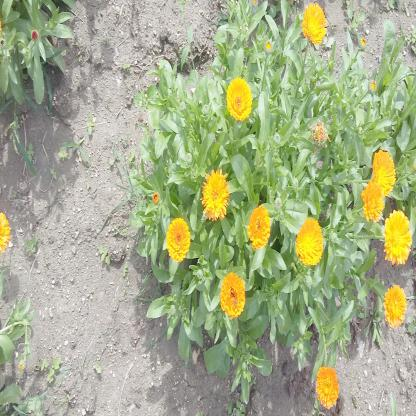marigold: (386, 210, 411, 264), (296, 216, 323, 264), (203, 170, 227, 221), (221, 272, 245, 316), (166, 218, 190, 260), (383, 284, 406, 326), (227, 78, 252, 116), (248, 205, 271, 246), (373, 152, 396, 192), (304, 4, 328, 42), (318, 366, 340, 406), (363, 182, 384, 219)
